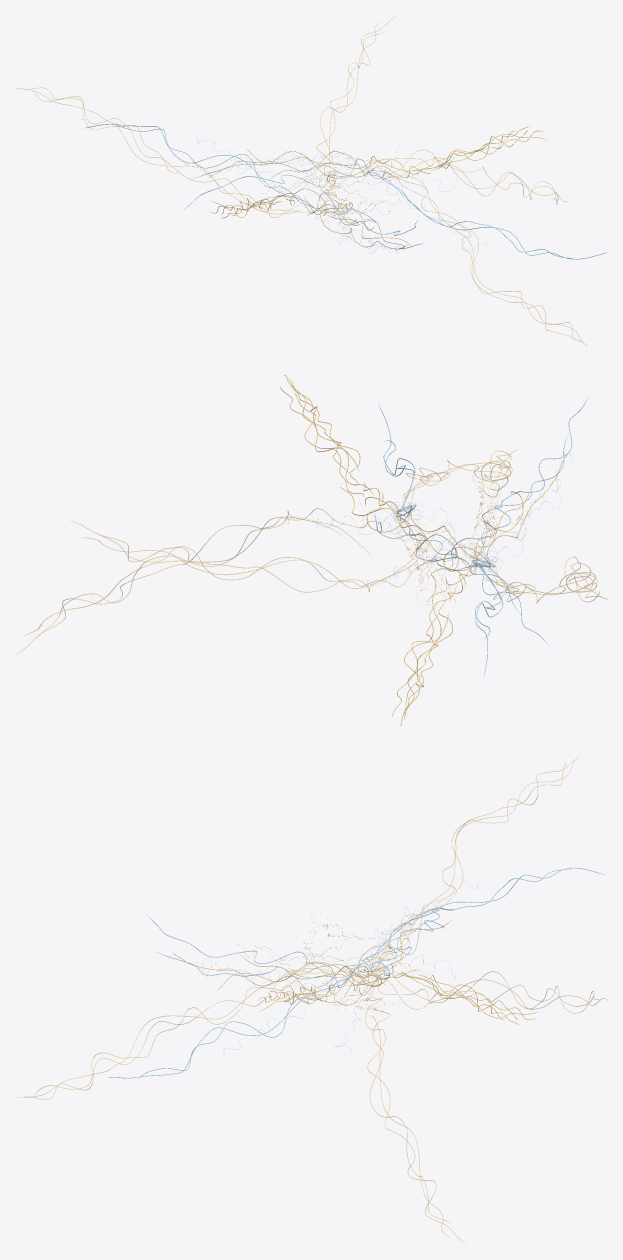
File: WWW1.glb
3 renders of one model, top to bottom at view 1: azimuth 30°, elevation 25°; view 2: azimuth 150°, elevation 25°; view 3: azimuth 270°, elevation 25°, orthographic. The views are drawn at different scales.
Parts seen in each view (by area): view 1: no part large enough to name; view 2: 23-09-25 11-52-11nina.obj.023, 23-09-25 11-52-11nina.obj.038, 23-09-25 11-52-11nina.obj.039, 23-09-25 11-52-11nina.obj.036; view 3: no part large enough to name.
Boxes of the visible parts, bbox=[...] form: 23-09-25 11-52-11nina.obj.023: bbox=[69, 519, 453, 592]; 23-09-25 11-52-11nina.obj.038: bbox=[17, 508, 377, 654]; 23-09-25 11-52-11nina.obj.039: bbox=[39, 511, 369, 635]; 23-09-25 11-52-11nina.obj.036: bbox=[400, 452, 512, 514].
Bounding box in the file's own units: 45.56 × 17.63 × 42.45.
